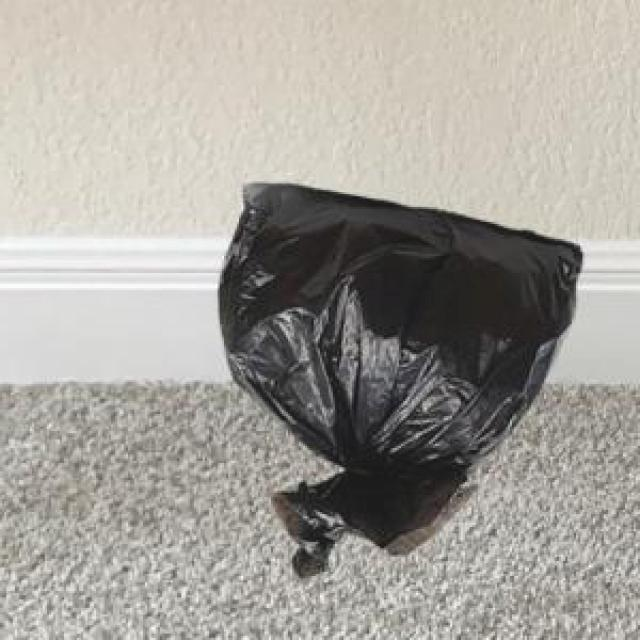Trashbag: (208, 174, 603, 586)
